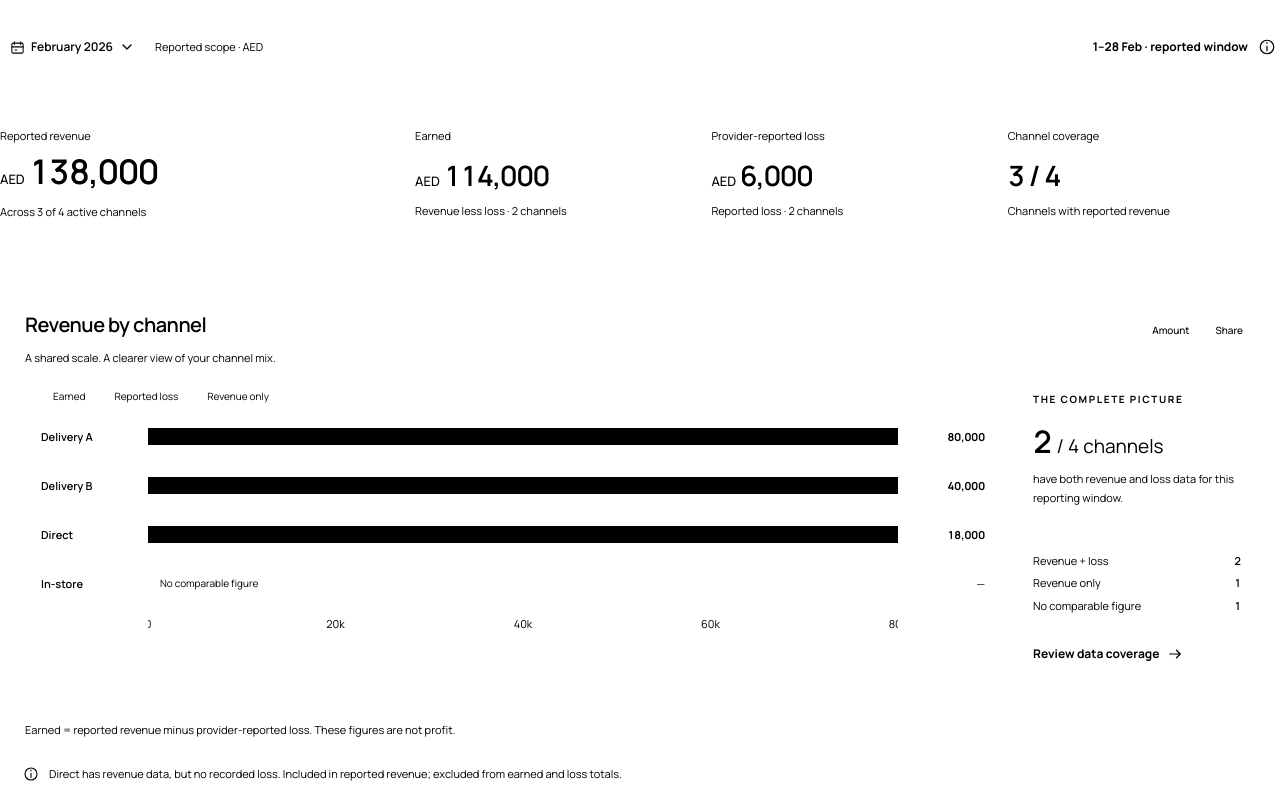
Test: ChannelsRollup › shows the coverage rail beside the plot with counts and a working review link
The image size is (1280, 800).
Expected: the text "The complete picture" is shown, [1033, 392, 1183, 406]
Expected: the text "have both revenue and loss data for this reporting window." is shown, [1033, 470, 1241, 508]
Click the button "Review data coverage".
click(1109, 654)  # box [1033, 645, 1184, 663]
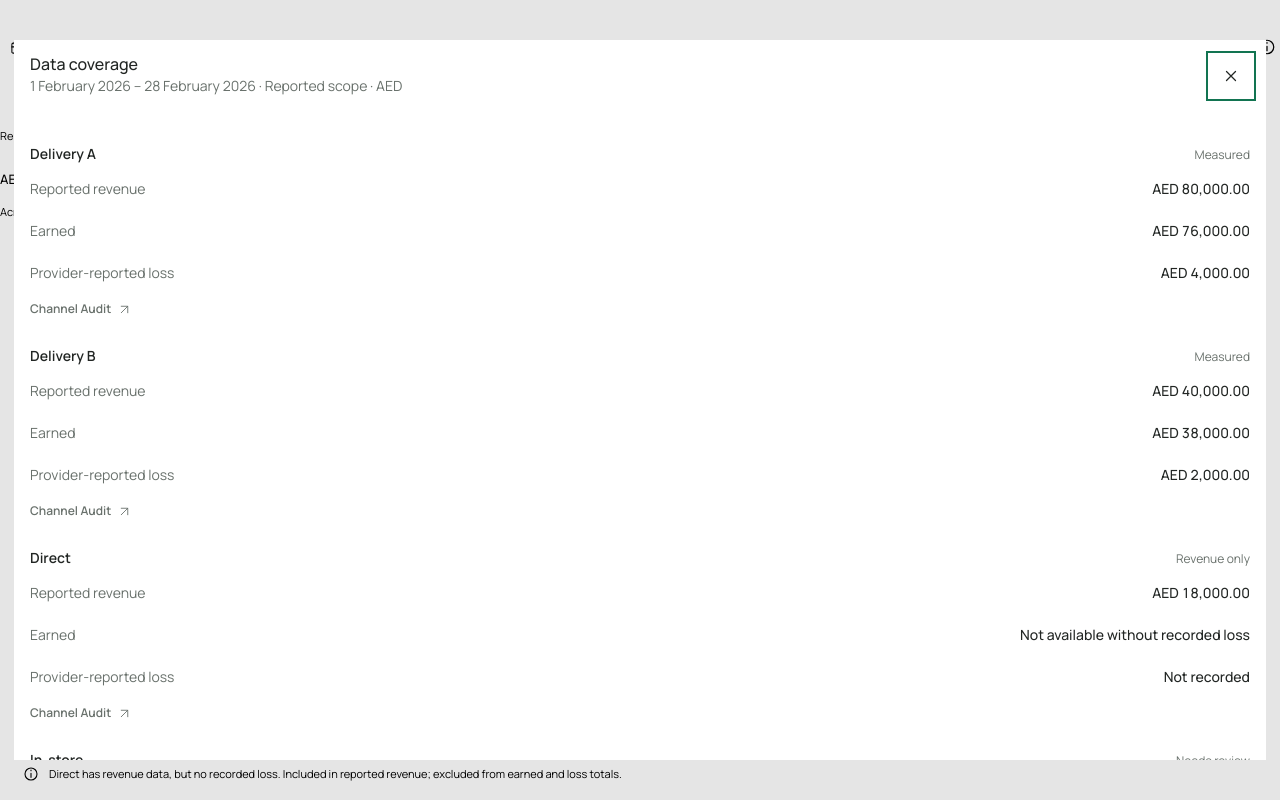
Expected: the text "1 February 2026 – 28 February 2026 · Reported scope · AED" is shown, [30, 76, 402, 96]
